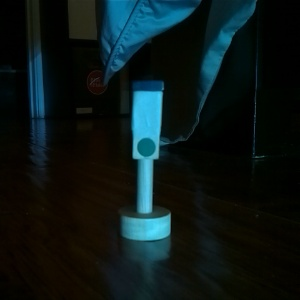traffic light green: (114, 74, 172, 241)
